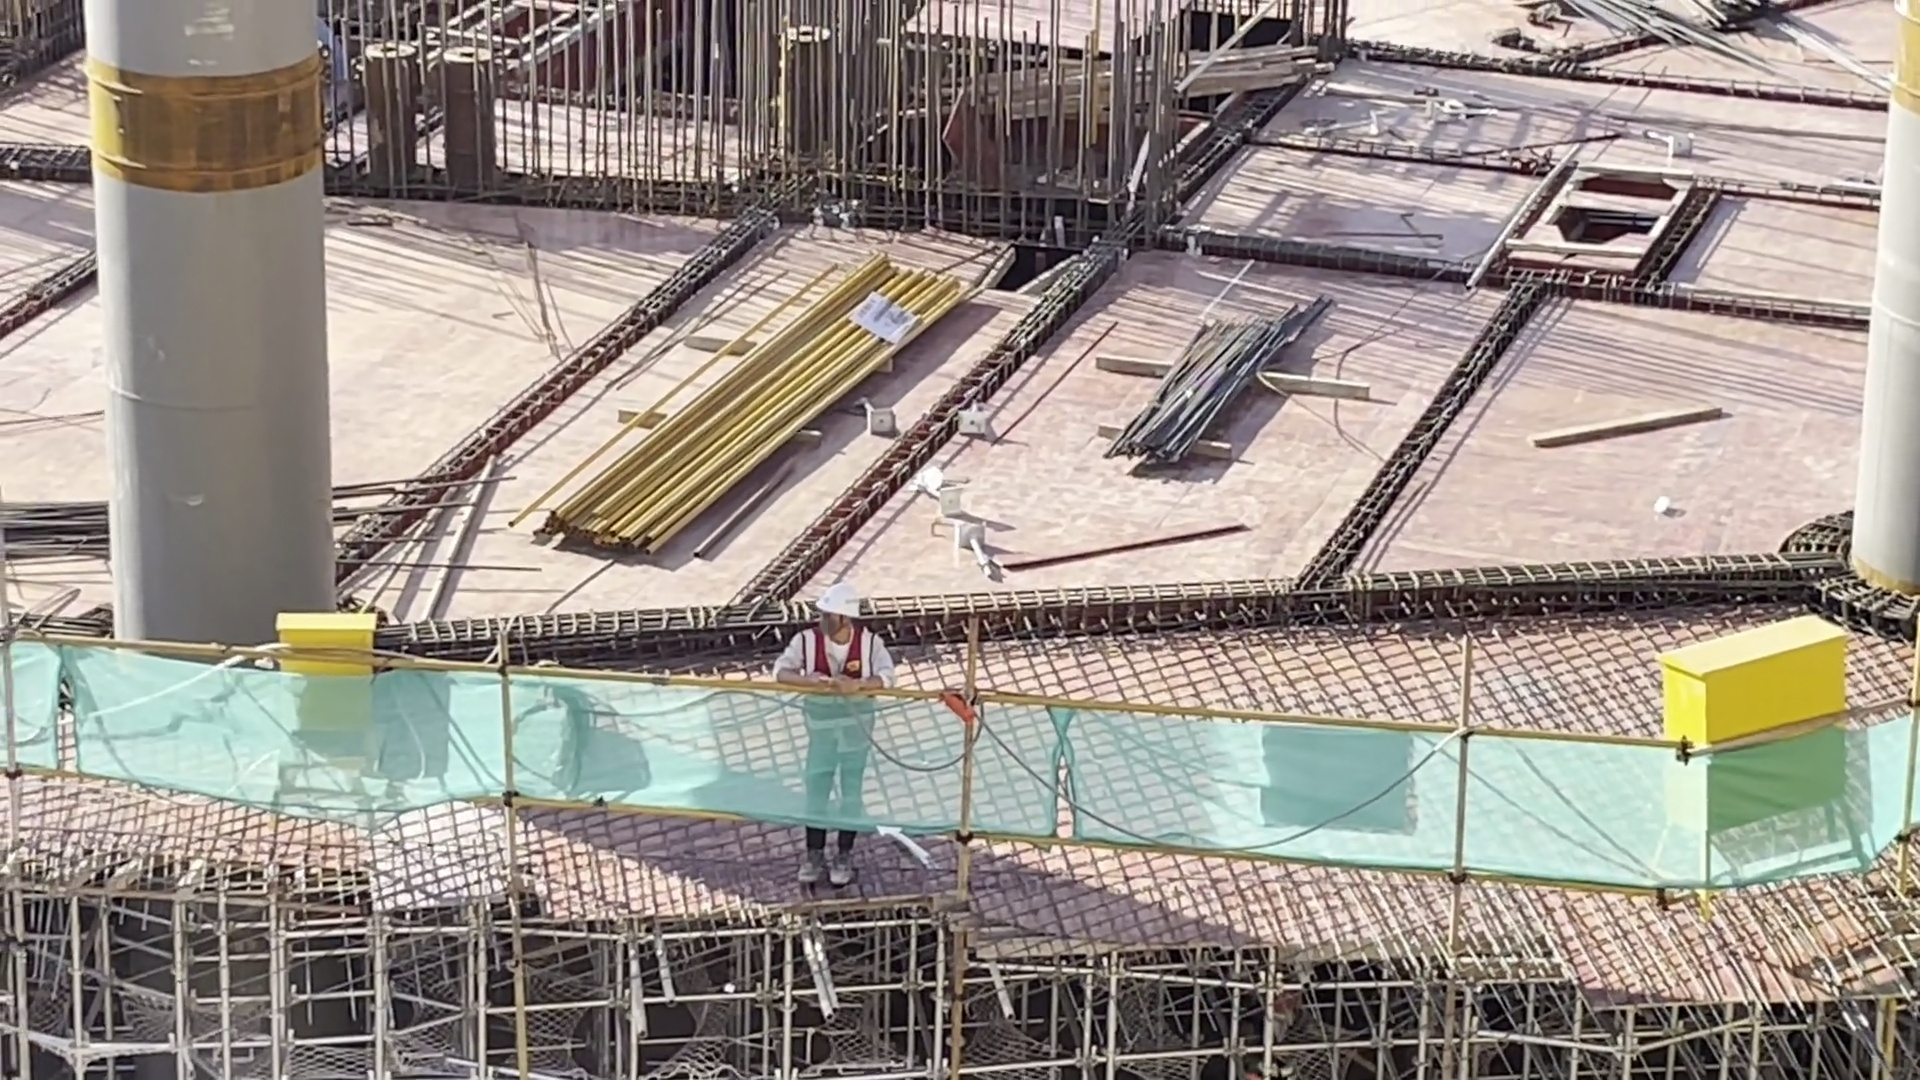ebox: (1649, 571, 1862, 835), (258, 590, 381, 750)
helmet: (805, 585, 871, 626)
person: (769, 586, 901, 886)
vest: (800, 626, 870, 755)
